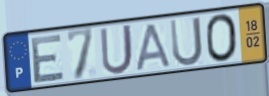7: (66, 26, 96, 83)
A: (135, 22, 173, 72)
E: (30, 32, 67, 86)
O: (204, 12, 240, 64)
U: (98, 22, 135, 77), (168, 14, 205, 68)
